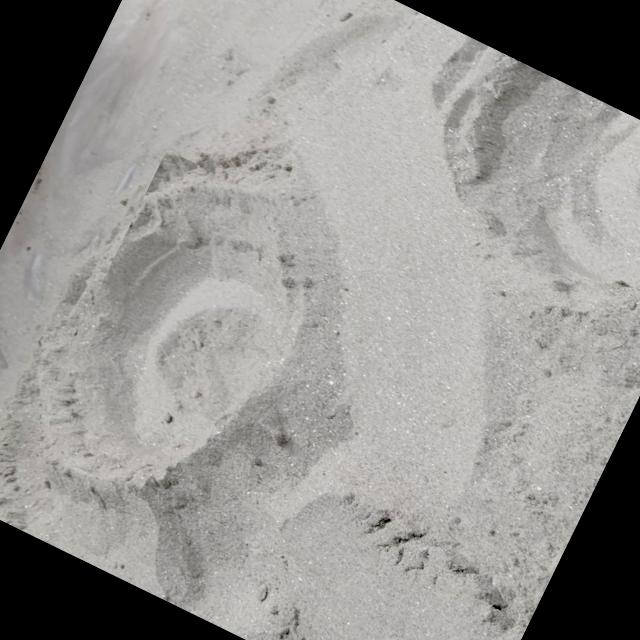C20: (51, 181, 289, 482), (449, 48, 640, 303)
